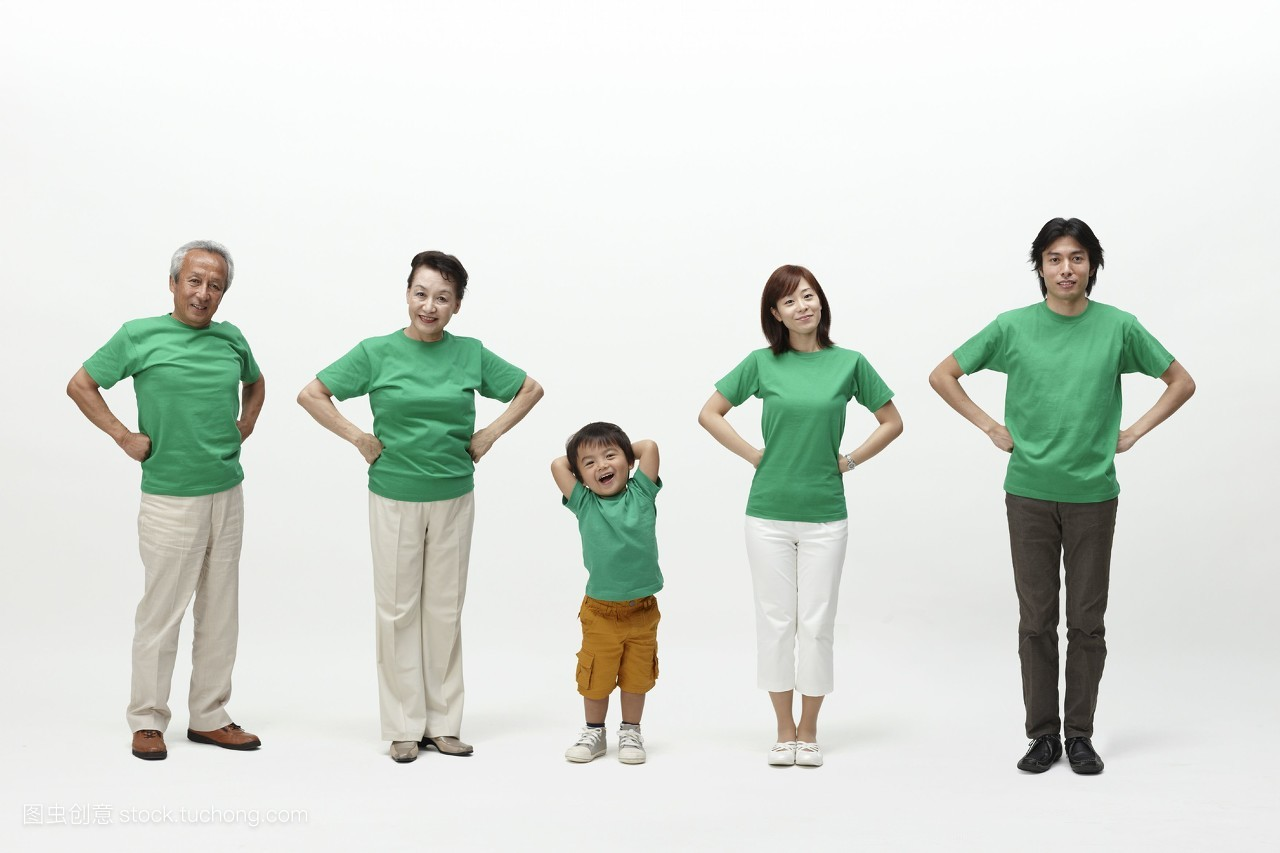handsup: (539, 427, 698, 770)
other: (926, 206, 1201, 795), (294, 212, 547, 763), (66, 239, 305, 756), (689, 254, 909, 780)
